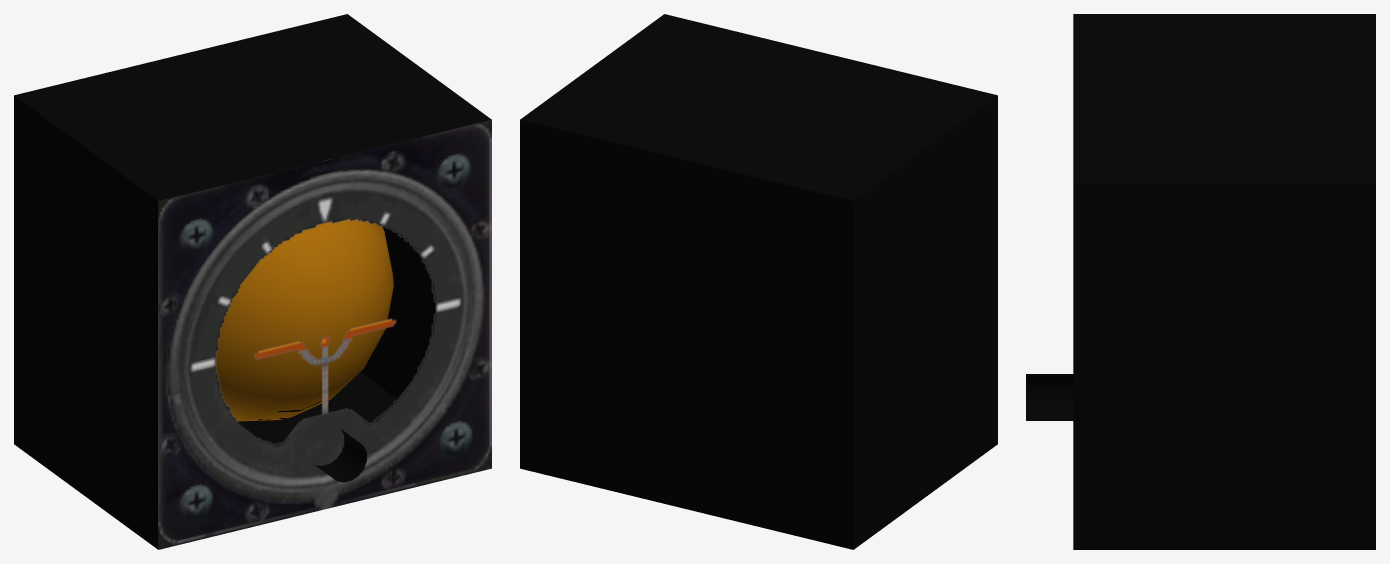
The model's file is gau_ATI_face_square.glb.
3 renders of one model, left to right at view 1: azimuth 30°, elevation 25°; view 2: azimuth 150°, elevation 25°; view 3: azimuth 270°, elevation 25°, orthographic. The views are drawn at different scales.
Parts seen in each view (by area): view 1: ATI, ATI_sphere; view 2: ATI; view 3: ATI.
Part boxes in pixels (x1,y1,x2,y2): ATI: (14, 14, 491, 549); ATI_sphere: (216, 219, 393, 421); ATI: (520, 14, 997, 549); ATI: (1026, 14, 1375, 549).
Size of the model in its own units: 0.075 by 0.075 by 0.065.
Materials: 3 (2 with a texture image).
